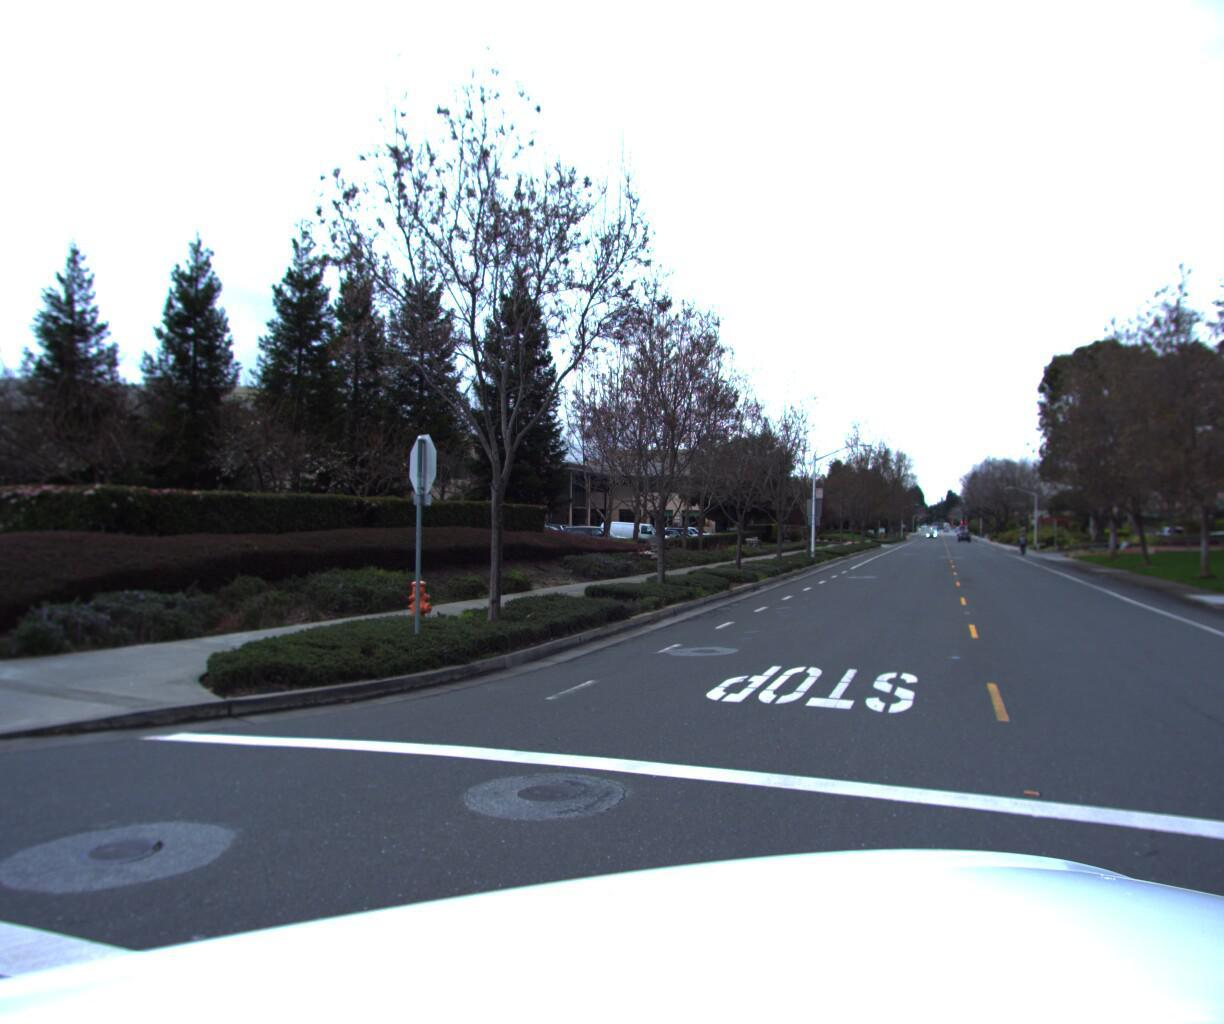bicycle: (1011, 539, 1026, 564)
